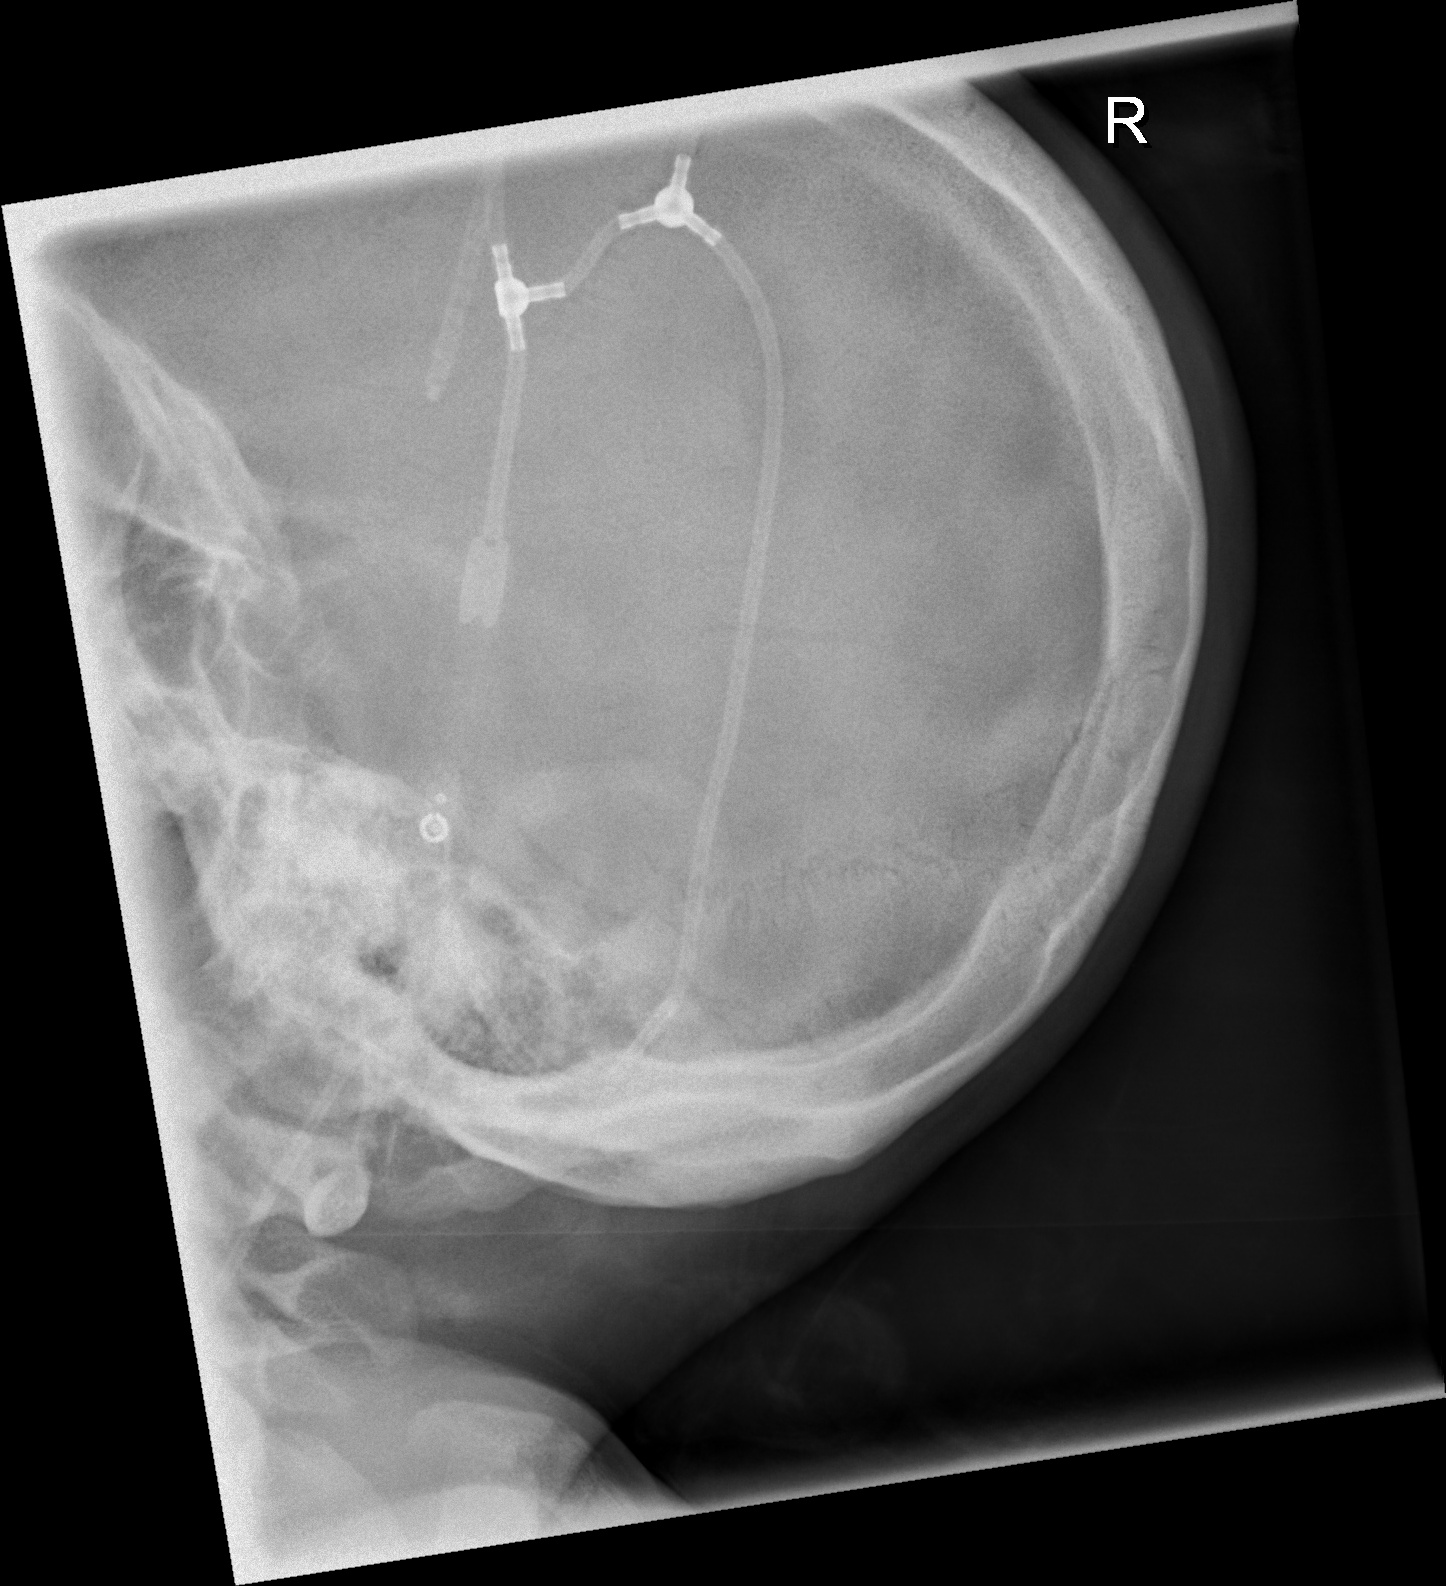Codman Hakim: (414, 781, 463, 857)
